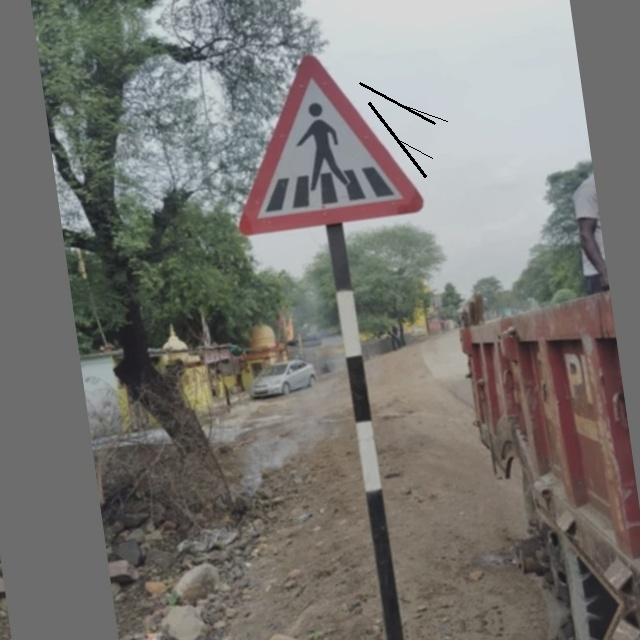Pedestrian_Crossing: (220, 44, 435, 241)
